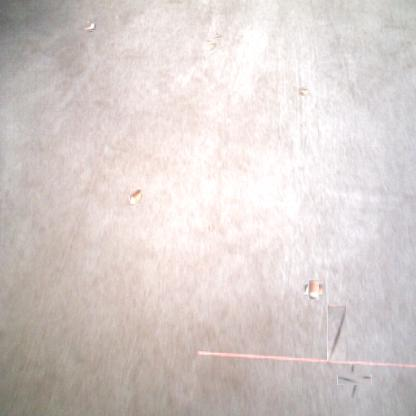dirty: (306, 282, 322, 297), (129, 189, 141, 204), (205, 41, 216, 52), (298, 86, 308, 97), (85, 21, 95, 31)
mark: (327, 305, 346, 361), (344, 369, 366, 392), (214, 34, 222, 41)
